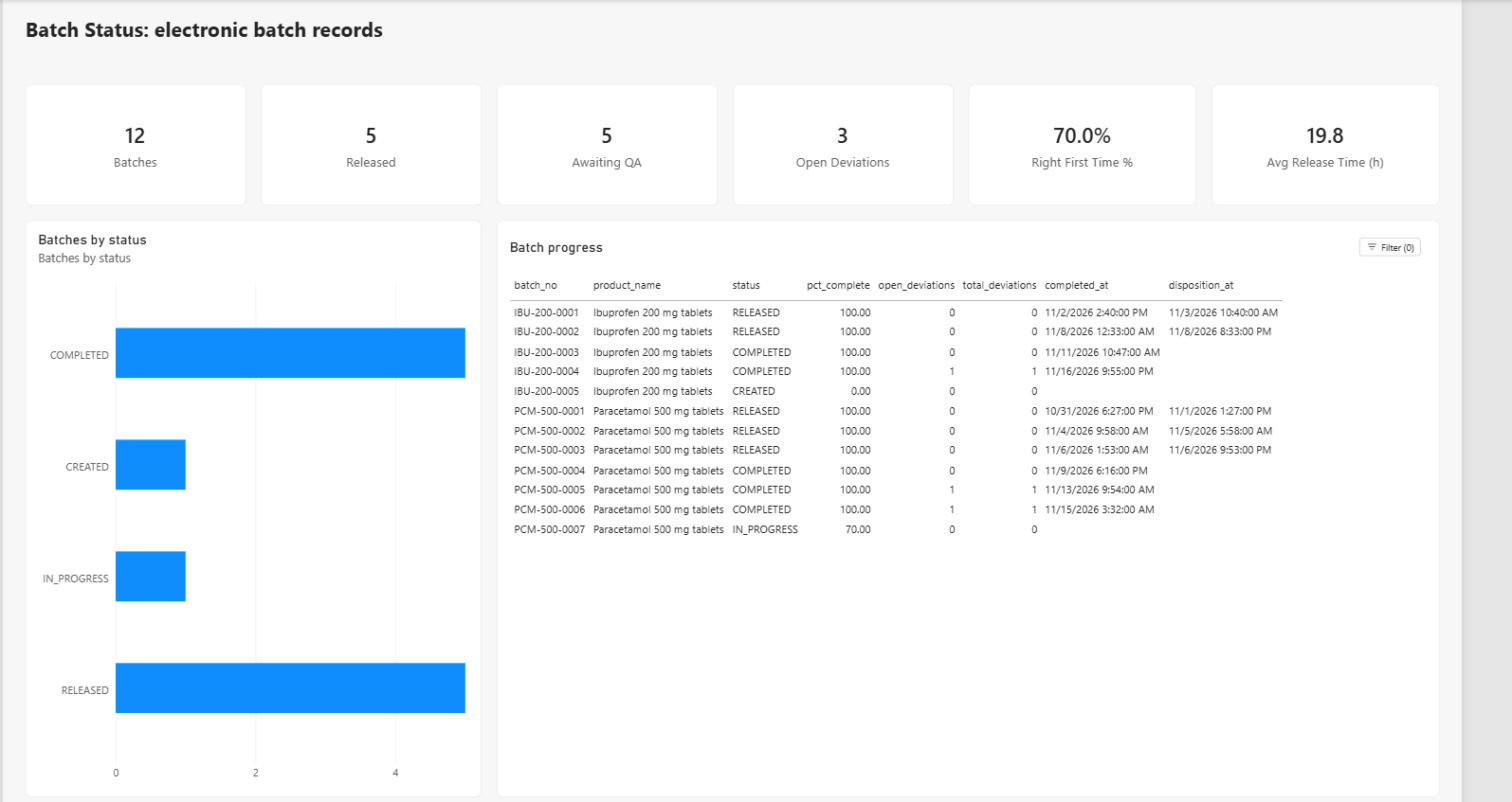

The dashboard page shown, as its layout file describes it:
{"tool":"powerbi","page":{"name":"Batch Status","canvas":[1920,1080],"ordinal":0},"visuals":[{"type":"textbox","box":[30,20,1400,70],"z":0},{"type":"card","fields":{"Values":["BatchProgress.Batches"]},"box":[30,110,290,160],"z":1},{"type":"card","fields":{"Values":["BatchProgress.Released"]},"box":[340,110,290,160],"z":2},{"type":"card","fields":{"Values":["BatchProgress.Awaiting QA"]},"box":[650,110,290,160],"z":3},{"type":"card","fields":{"Values":["BatchProgress.Open Deviations"]},"box":[960,110,290,160],"z":4},{"type":"card","fields":{"Values":["BatchProgress.Right First Time %"]},"box":[1270,110,300,160],"z":5},{"type":"card","fields":{"Values":["BatchProgress.Avg Release Time (h)"]},"box":[1590,110,300,160],"z":6},{"type":"clusteredBarChart","title":"Batches by status","fields":{"Category":["BatchProgress.status"],"Y":["BatchProgress.Batches"]},"box":[30,290,600,760],"z":7},{"type":"tableEx","title":"Batch progress","fields":{"Values":["BatchProgress.batch_no","BatchProgress.product_name","BatchProgress.status","BatchProgress.pct_complete","BatchProgress.open_deviations","BatchProgress.total_deviations","BatchProgress.completed_at","BatchProgress.disposition_at"]},"box":[650,290,1240,760],"z":8}]}

Visuals, with their boxes on the page's 1920x1080 design canvas (x1, y1, x2, y2). These are canvas units, not pixel positions in the 1512x802 screenshot, which may show the page scaled, cropped or inside an application window:
textbox: [x1=30, y1=20, x2=1430, y2=90]
card - BatchProgress.Batches: [x1=30, y1=110, x2=320, y2=270]
card - BatchProgress.Released: [x1=340, y1=110, x2=630, y2=270]
card - BatchProgress.Awaiting QA: [x1=650, y1=110, x2=940, y2=270]
card - BatchProgress.Open Deviations: [x1=960, y1=110, x2=1250, y2=270]
card - BatchProgress.Right First Time %: [x1=1270, y1=110, x2=1570, y2=270]
card - BatchProgress.Avg Release Time (h): [x1=1590, y1=110, x2=1890, y2=270]
"Batches by status" clusteredBarChart: [x1=30, y1=290, x2=630, y2=1050]
"Batch progress" tableEx: [x1=650, y1=290, x2=1890, y2=1050]
